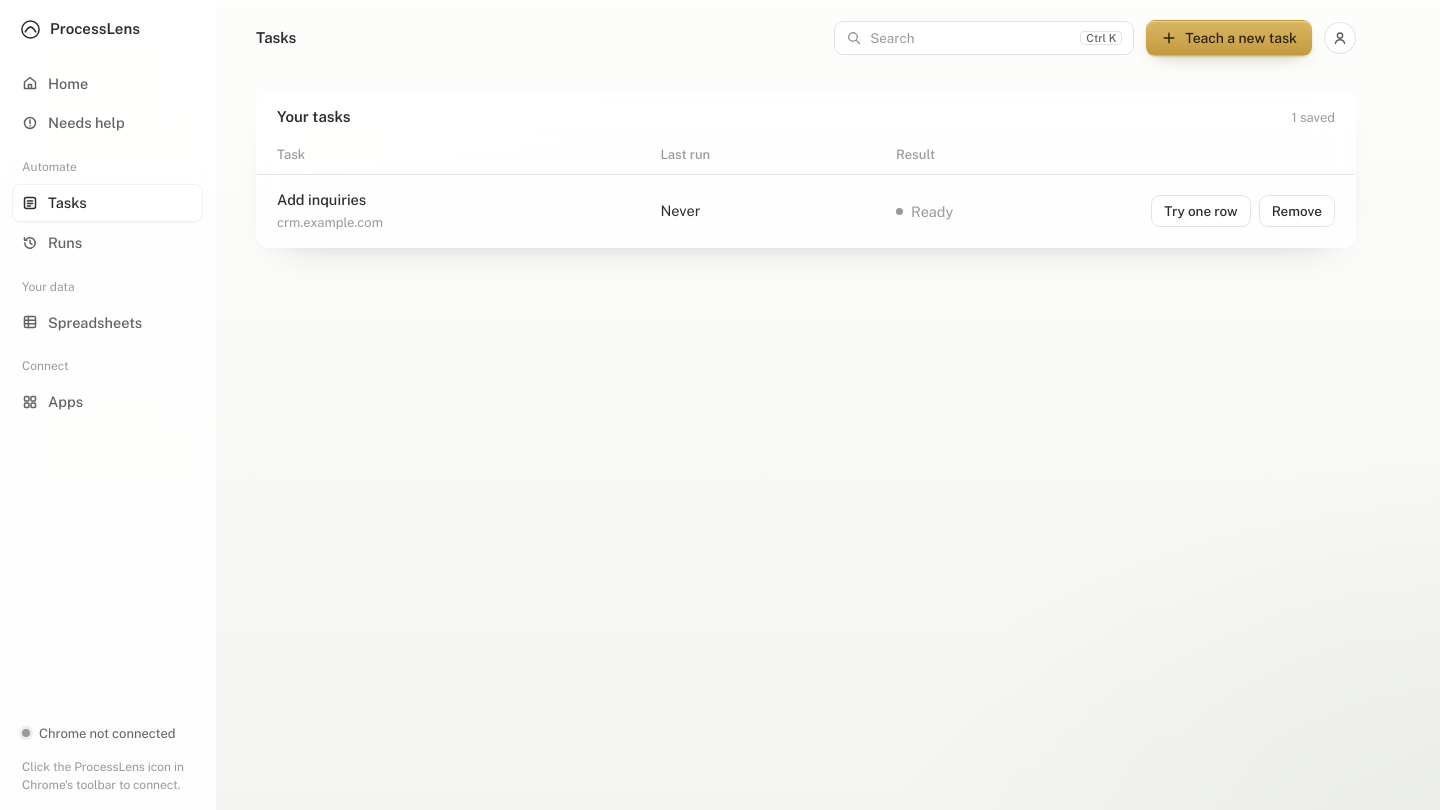
the web Tasks page (PL-120) › shows a 409's sentence on the task's row
Click the button "Remove" at (1297,211), box 1259,195 -> 1335,227
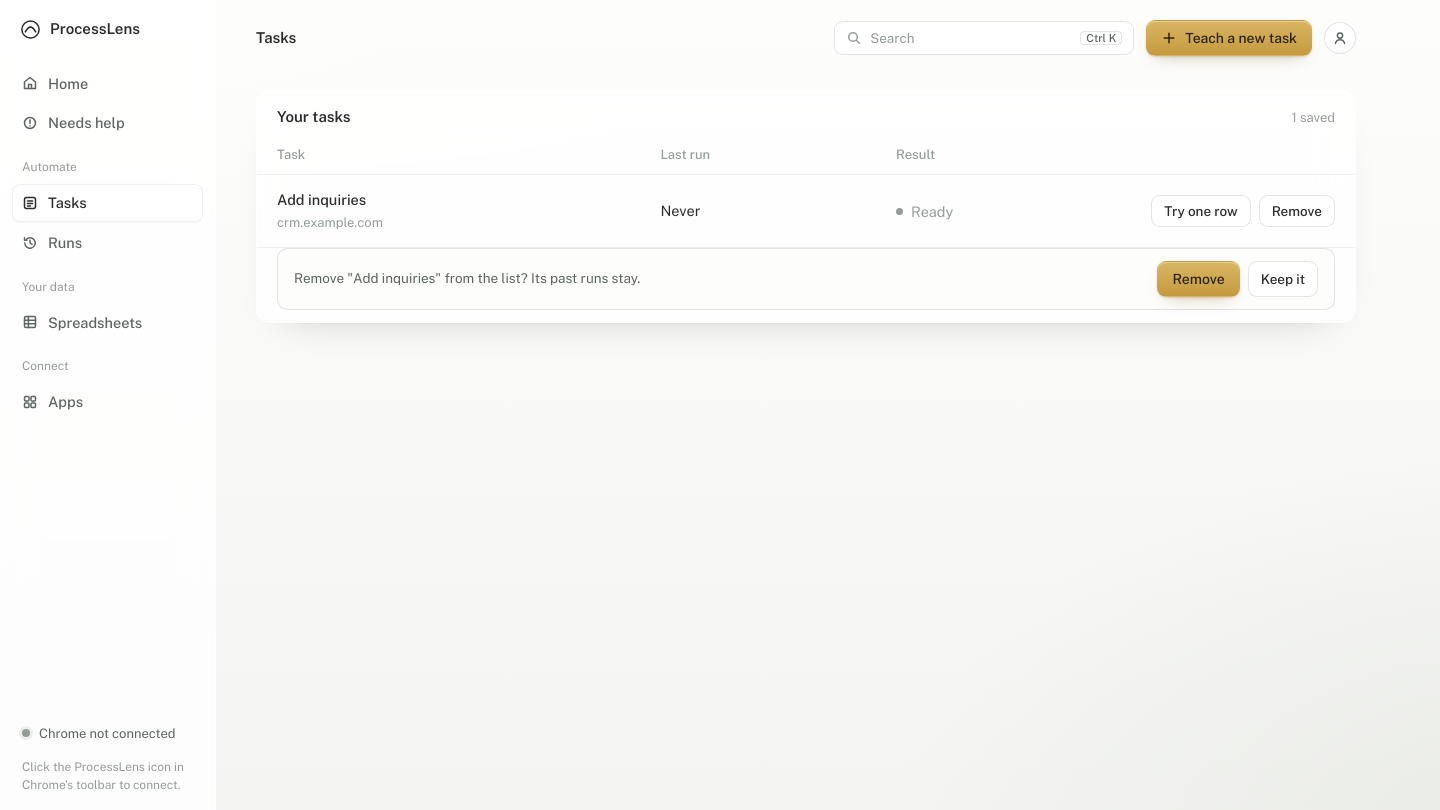
Click the 2nd button "Remove" at (1199,278), box 1158,260 -> 1240,296
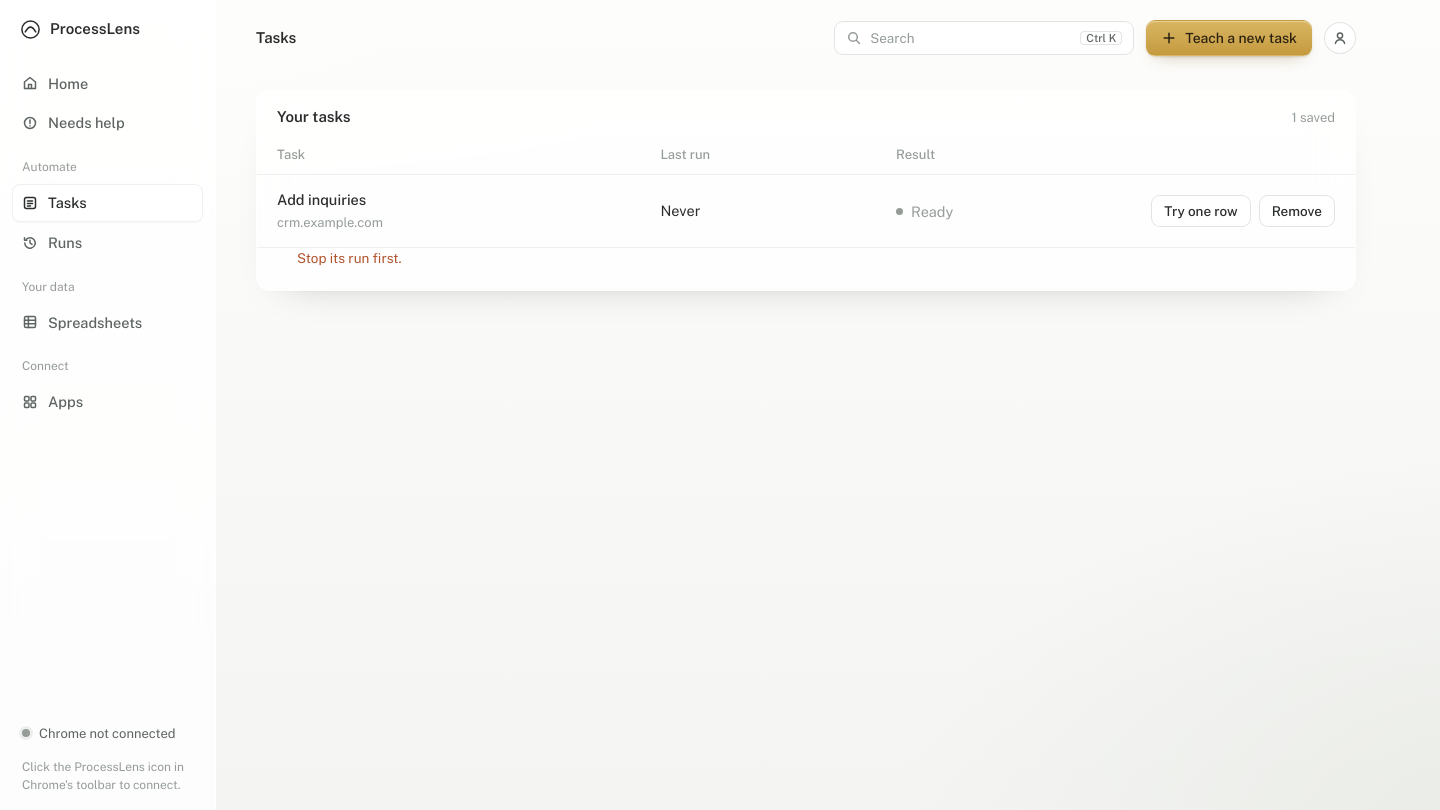
Expected: the link "Add inquiries" is shown, 277,191 -> 366,208
Result: the text "Stop its run first." is shown at 297,250 -> 402,266
